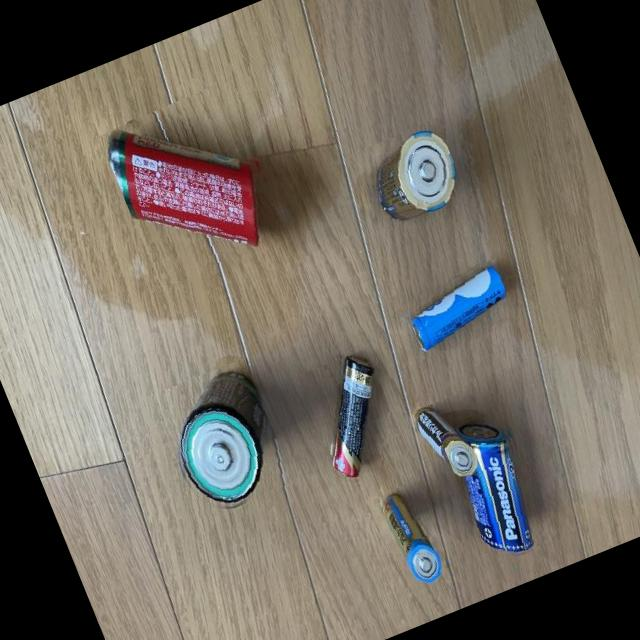Hazard: (96, 77, 293, 288), (146, 356, 296, 527), (437, 408, 558, 572), (290, 347, 412, 496), (348, 116, 468, 236), (390, 256, 520, 360), (365, 478, 452, 594), (408, 392, 491, 495)
